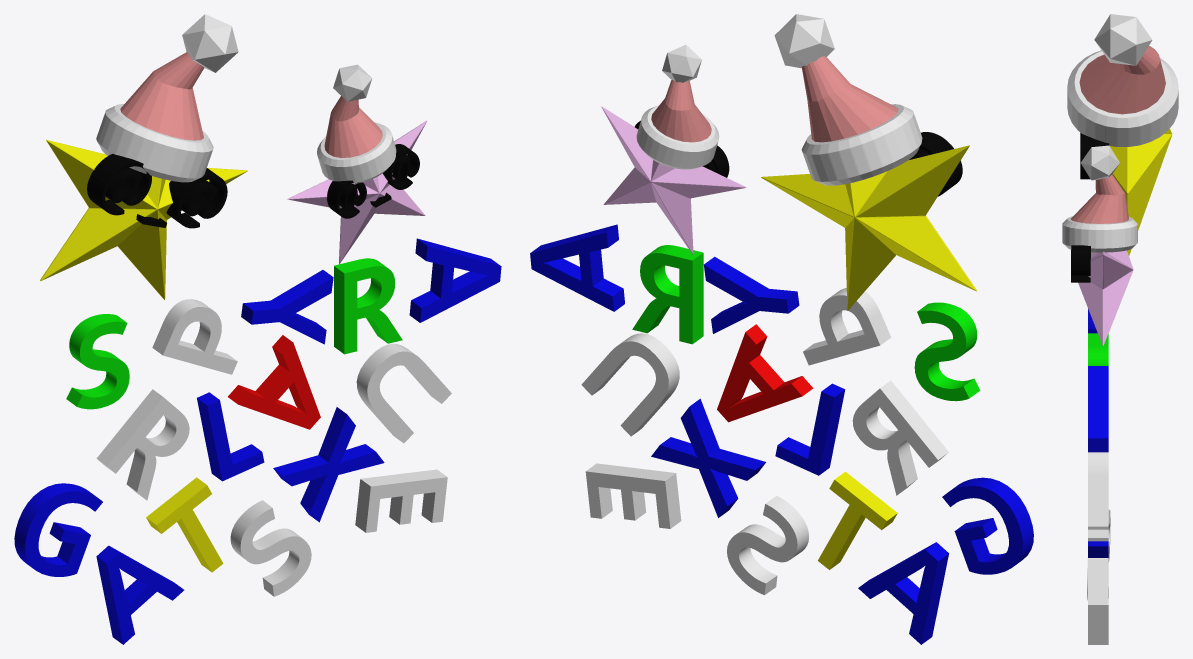
Rendered from TitleComplexModel.fbx.
The picture shows the model from 3 angles, left to right: view 1: azimuth 30°, elevation 25°; view 2: azimuth 150°, elevation 25°; view 3: azimuth 270°, elevation 25°; orthographic projection. The views are drawn at different scales.
Visible parts, largest first — view 1: pPlatonic5; view 2: pPlatonic5; view 3: pPlatonic5.
Boxes of the visible parts, left/top/right/bottom form: pPlatonic5: left=14, top=14, right=501, bottom=644; pPlatonic5: left=530, top=14, right=1033, bottom=644; pPlatonic5: left=1062, top=14, right=1178, bottom=644.
Size of the model in its own units: 25.9 by 30.48 by 5.64.
